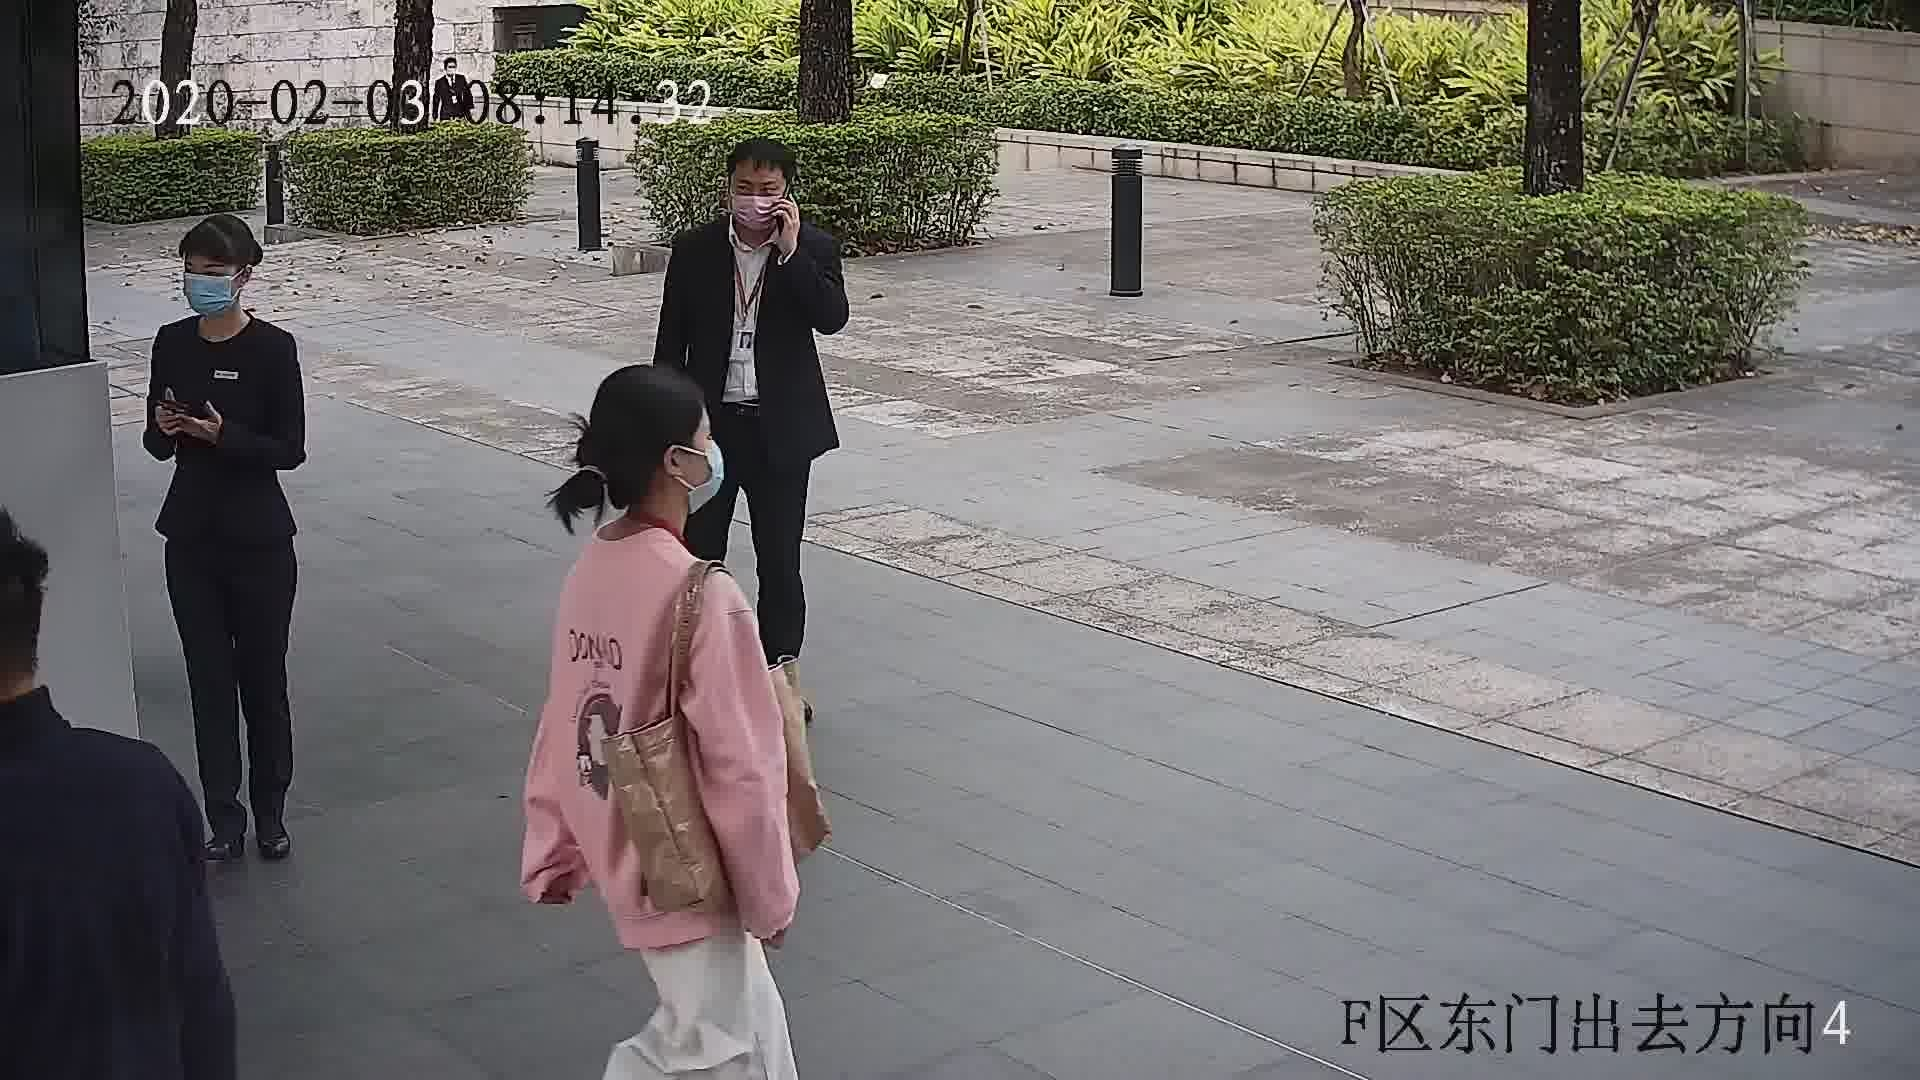face: (656, 400, 732, 517), (173, 241, 238, 320), (722, 168, 793, 239)
mask: (683, 443, 727, 516), (175, 271, 237, 318), (731, 191, 784, 232)
person: (1, 533, 196, 854), (550, 361, 748, 659), (152, 217, 298, 380), (673, 141, 839, 280)
